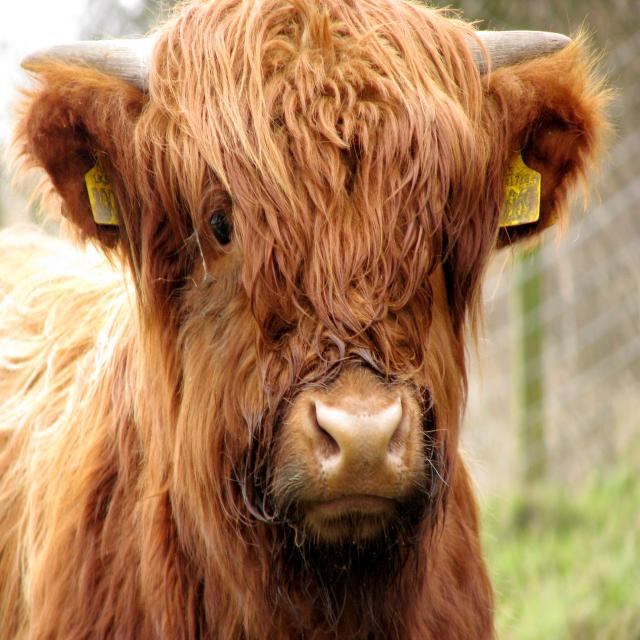cow: (0, 2, 609, 638)
